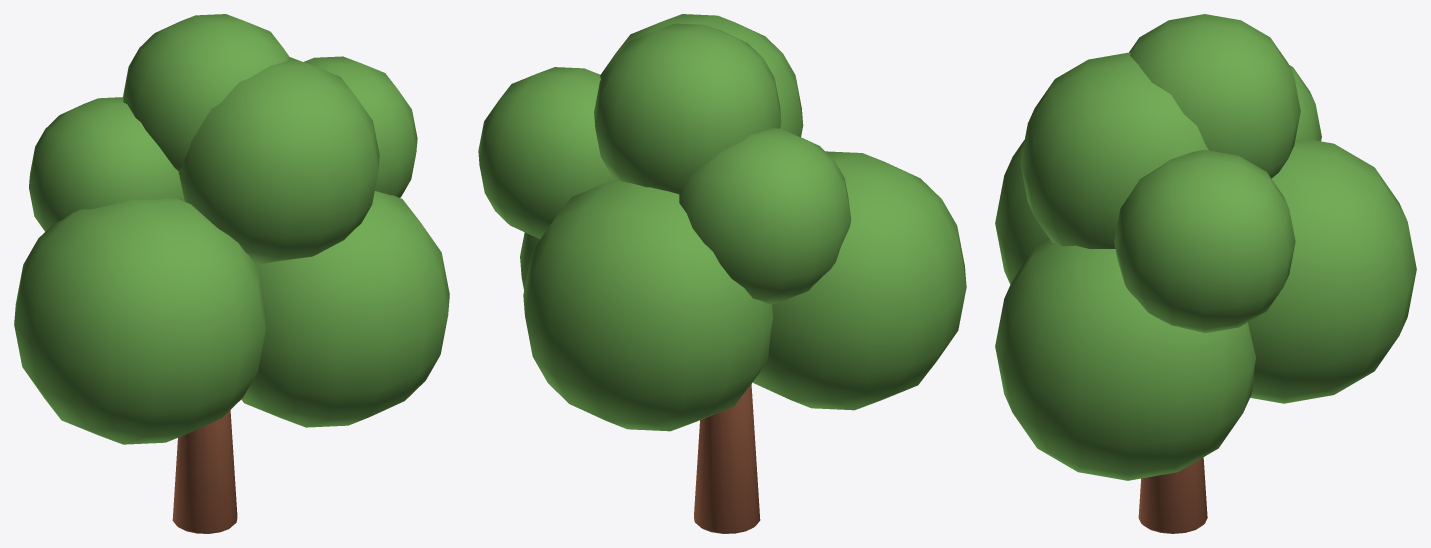
The model's file is tree15.fbx.
3 views of the same model, side by side, from view 1: azimuth 30°, elevation 25°; view 2: azimuth 150°, elevation 25°; view 3: azimuth 270°, elevation 25° (orthographic). The views are drawn at different scales.
Parts seen in each view (by area): view 1: tree15; view 2: tree15; view 3: tree15.
Boxes of the visible parts, <box> form: tree15: <box>14,14,449,533</box>; tree15: <box>478,14,966,533</box>; tree15: <box>995,14,1416,533</box>.
Bounding box in the file's own units: 801 × 898 × 675.
